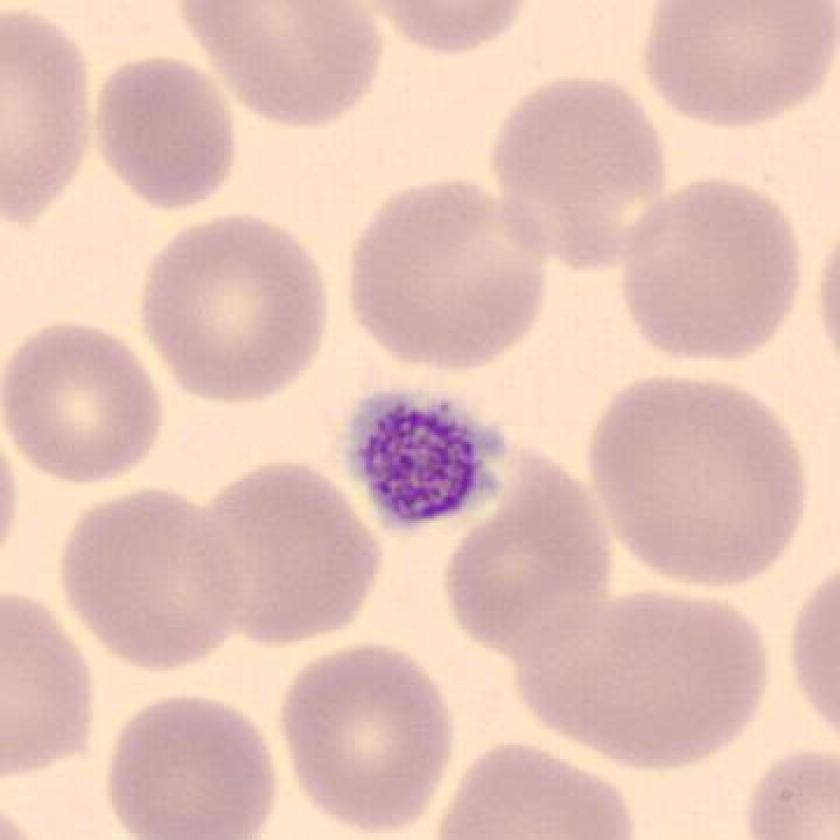platelets: (332, 374, 512, 543)
